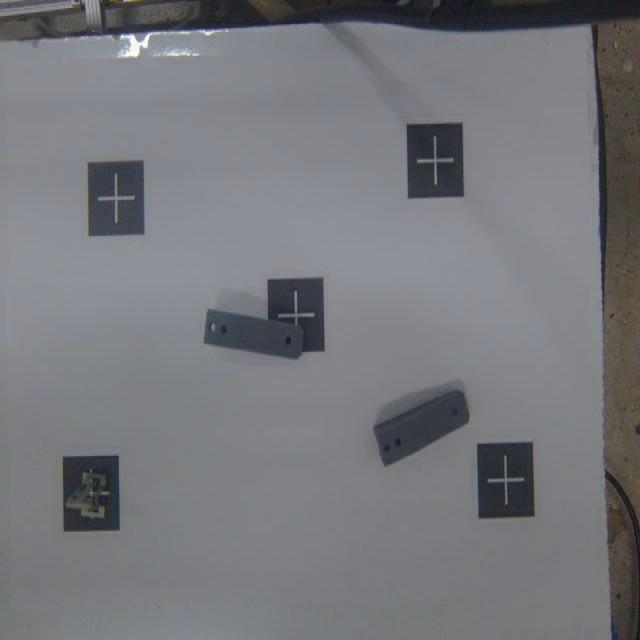pick4: (63, 454, 118, 529)
